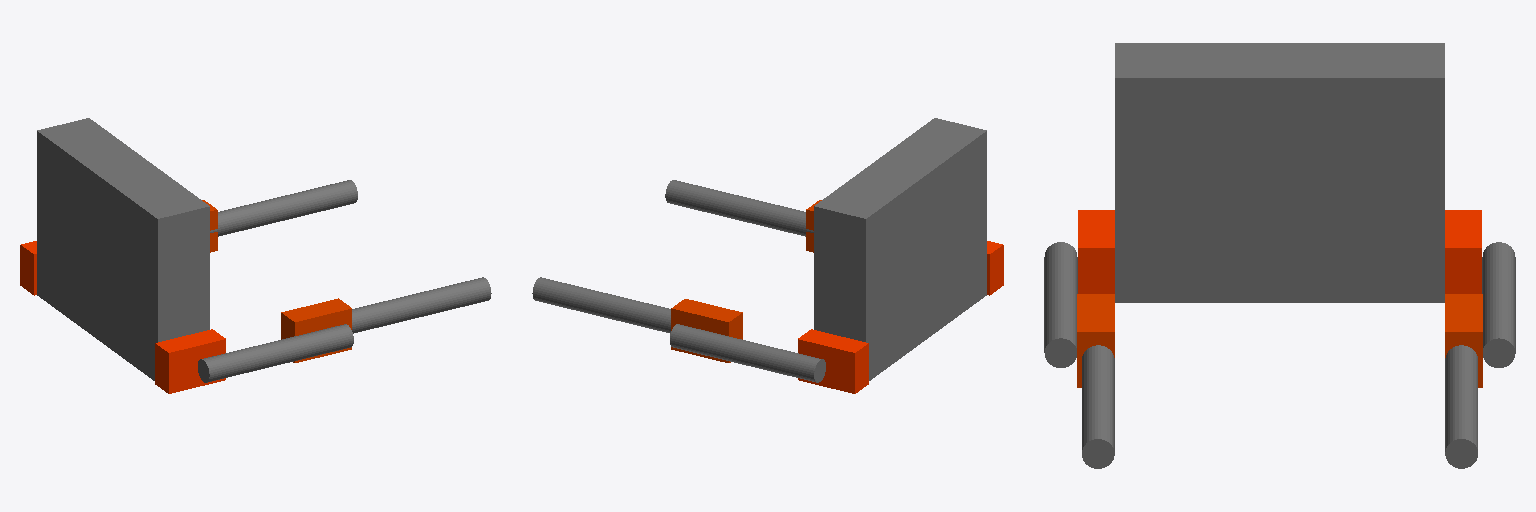
URDF robot description (flip_5link):
<robot name = "flip_5link">
  <material name = "link-color">
	<color rgba = "0.5 0.5 0.5 1" />
  </material>
  <material name = "Hebi-X-color">
    <color rgba = "1 0.27 0 1" />
  </material>
  <material name = "Hebi-X-color2">
    <color rgba = "0.9 0.3 0 1" />
  </material>

  <link name = "world">
  </link>

  <joint name="world_joint" type="revolute">
    <parent link="world"/>
    <child link="right_shank"/>
    <origin rpy="0.0 0.0 0.0" xyz="0.21949 -.44 0.0"/>
    <limit lower="-1" upper="1" velocity="2.5" effort="0.0"/>
		<axis xyz = "0 1 0" />
  </joint>

  <link name = "right_shank">
		<inertial>
			<origin rpy = "0 -1.57075 0" xyz = "-0.1635 0 0" />
			<mass value = "0.3037" />
			<inertia ixx = "0.1" iyy = "0.1" izz = "0.00398"
	ixy = "0" ixz = "0" iyz = "0" />
		</inertial>
		<visual>
          <origin rpy = "0 -1.57075 0" xyz = "-0.1635 0 0"/> <!-- CoM frame rotate -->
			<geometry>
			  <cylinder radius = "0.02" length = "0.288"/> <!-- total 0.308 (cylinder + phere) -->
			</geometry>
			<material name = "link-color"/>
		</visual>
        <visual>
          <origin rpy = "0 0 0" xyz = "-0.01 0 0"/>
			<geometry>
			  <GeometryTypes.Sphere radius = "0.02"/>
			</geometry>
            <!-- <material name = "link-color"/> -->
            <material name = "Hebi-X-color"/>
        </visual>
  </link>

  <joint name = "right_knee" type = "revolute">
		<parent link = "right_shank" />
		<child link = "right_thigh" />
	    <origin rpy = "-1.57075 0 0" xyz = "-0.308 -0.045 0" /> <!-- relative to ankle joint -->
		<axis xyz = "0 0 1" />
        <limit lower="0.0" upper="0.548" velocity="0.5" effort="30.0"/>
  </joint>

  <link name = "right_thigh">
		<inertial>
			<origin rpy = "0  1.57075  0" xyz = "-0.0579 0 0" />  <!-- 0.2755-0.2176 -->
			<mass value = "0.8112" />
			<inertia ixx = "0.1" iyy = "0.1" izz = "0.00709"
	                 ixy = "0" ixz = "0" iyz = "0" />
		</inertial>
		<visual>
		    <origin rpy = "0  1.57075  0" xyz = "-0.1378 0 0"/> <!-- CoM relative to knee joint -->
			<geometry>
			  <cylinder radius = "0.02" length = "0.2755"  />
			</geometry>
			<material name = "link-color"/>
		</visual>
        <!-- Left knee motor -->
        <visual>
          <origin xyz = "-0.035  0  0.04225"/> <!-- 0.2755 - 0.2405  -->
          <geometry>
            <box size = "0.11 0.075 0.045" />
          </geometry>
          <material name = "Hebi-X-color2"/>
        </visual>
  </link>

  <joint name = "right_hip" type = "revolute">
		<parent link = "right_thigh" />
		<child link = "base" />
	    <origin rpy = "3.1416 0  0" xyz = "-0.2755 0 0" />
		<axis xyz = "0 0 1" />
        <limit lower="0.0" upper="0.548" velocity="0.5" effort="30.0"/>
  </joint>

  <link name = "base">
		<inertial>
			<origin rpy = "-1.57075 0 0" xyz = "0 0.1125 -0.265" />
			<mass value = "5.354" />
			<inertia ixx = "0.1" iyy = "0.02517" izz = "0.5"
                     ixy = "0" ixz = "0" iyz = "0" />
		</inertial>
		<visual>
			<origin rpy = "-1.57075 0 0" xyz = "0 0.1125 -0.265" />
			<geometry>
			  <box size = "0.1 0.4 0.3" />
			</geometry>
            <material name = "link-color"/>
		</visual>
        <!-- Left hip motor -->
        <visual>
          <origin rpy = "-1.57075 0 0" xyz = "0 0 -0.4875" />
          <geometry>
            <box size = "0.11 0.045 0.075" />
          </geometry>
          <material name = "Hebi-X-color"/>
        </visual>
        <!-- Right hip motor -->
        <visual>
          <origin rpy = "-1.57075 0 0" xyz = "0 0 -0.0425" />
          <geometry>
            <box size = "0.11 0.045 0.075" />
          </geometry>
          <material name = "Hebi-X-color"/>
        </visual>
  </link>

  <joint name = "left_hip" type = "revolute">
		<parent link = "base" />
		<child link = "left_thigh" />
	    <origin rpy = "3.1416 0  0  " xyz = "0. 0 -0.53" />
		<axis xyz = "0 0 1" />
        <limit lower="0.0" upper="0.548" velocity="0.5" effort="30.0"/>
  </joint>

  <link name = "left_thigh">
		<inertial>
			<origin xyz = "0.2176 0 0" />
			<mass value = "0.8112" />
			<inertia ixx = "0.1" iyy = "0.1" izz = "0.00709"
	ixy = "0" ixz = "0" iyz = "0" />
		</inertial>
		<visual>
		  <!-- <origin rpy="0 1.57075 0" xyz = "0.138  0.265 -0.1125" /> -->
          <origin rpy = "0 1.57075 0" xyz = "0.138 0 0"/>
			<geometry>
			  <cylinder radius = "0.02" length = "0.2755"  />
			</geometry>
			<material name = "link-color"/>
		</visual>
        <!-- Left knee motor -->
        <visual>
          <!-- <origin rpy = "-1.57075 0 0" xyz = "0.2755 -0.0225 0" /> -->
          <origin xyz = "0.2405 0 -0.04225"/>
          <geometry>
            <box size = "0.11 0.075 0.045" />
          </geometry>
          <material name = "Hebi-X-color2"/>
        </visual>
	</link>

    <joint name = "left_knee" type = "revolute">
		<parent link = "left_thigh" />
		<child link = "left_shank" />
	    <origin rpy = "3.141592 0 0" xyz = "0.2755 0 -0.045" />
		<axis xyz = "0 0 1" />
        <limit lower="0.0" upper="0.548" velocity="0.5" effort="30.0"/>
	</joint>

    <link name = "left_shank">
		<inertial>
			<origin xyz = "0.1445 0 0" />
			<mass value = "0.3037" />
			<inertia ixx = "0.1" iyy = "0.1" izz = "0.00398"
	ixy = "0" ixz = "0" iyz = "0" />
		</inertial>
		<visual>
          <origin rpy = "0 1.57075 0" xyz = "0.144 0 0"/>
			<geometry>
			  <cylinder radius = "0.02" length = "0.288"/> <!-- total 0.308 (cylinder + phere) -->
			</geometry>
			<material name = "link-color"/>
		</visual>
        <visual>
          <origin rpy = "0 0 0" xyz = "0.288 0 0"/>
			<geometry>
			  <GeometryTypes.Sphere radius = "0.02"/>
			</geometry>
            <!-- <material name = "link-color"/> -->
            <material name = "Hebi-X-color"/>
        </visual>
	</link>







 </robot>

--- Render facts (derived) ---
3 views of the same robot in one strip: view 1: azimuth 30°, elevation 25°; view 2: azimuth 150°, elevation 25°; view 3: azimuth 270°, elevation 25° (orthographic).
Model flip_5link with 6 links and 5 joints (5 revolute), rooted at world, posed all joints at 0.
Links seen in each view (by area): view 1: base, right_thigh, left_shank, right_shank; view 2: base, left_thigh, right_shank, left_shank; view 3: base, right_thigh, left_thigh, right_shank, left_shank.
Boxes of the visible links, x1,y1,x2,y2 form: base: [20, 118, 225, 393]; right_thigh: [198, 298, 353, 382]; left_shank: [210, 180, 357, 236]; right_shank: [352, 277, 491, 333]; base: [798, 118, 1003, 393]; left_thigh: [670, 299, 825, 382]; right_shank: [665, 180, 813, 236]; left_shank: [532, 277, 670, 333]; base: [1078, 43, 1481, 302]; right_thigh: [1044, 242, 1114, 387]; left_thigh: [1445, 242, 1515, 387]; right_shank: [1082, 345, 1114, 468]; left_shank: [1445, 345, 1477, 468].
Bounding box of the posed robot: 0.619 × 0.57 × 0.3 m (x, y, z).
Geometry: primitives only (box / cylinder / sphere), no mesh files.